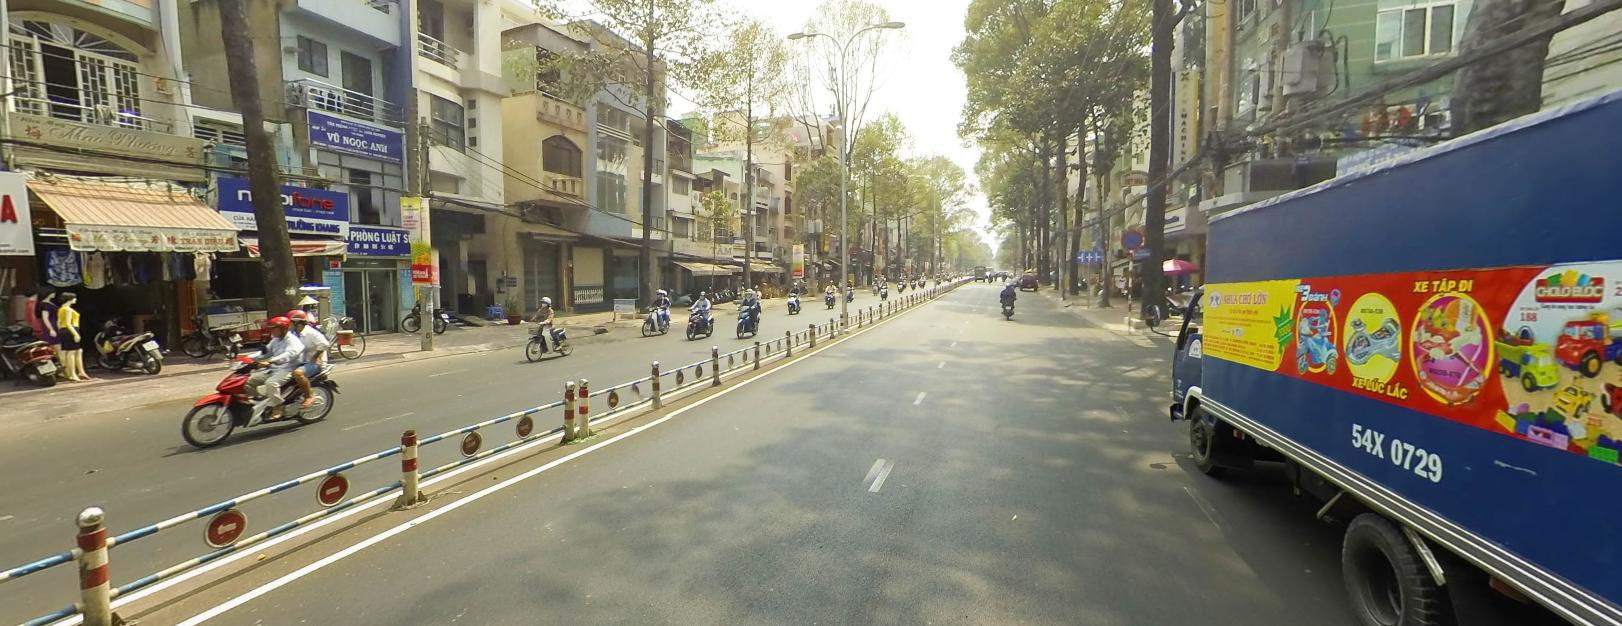Cam dung va do: (1121, 228, 1144, 247)
